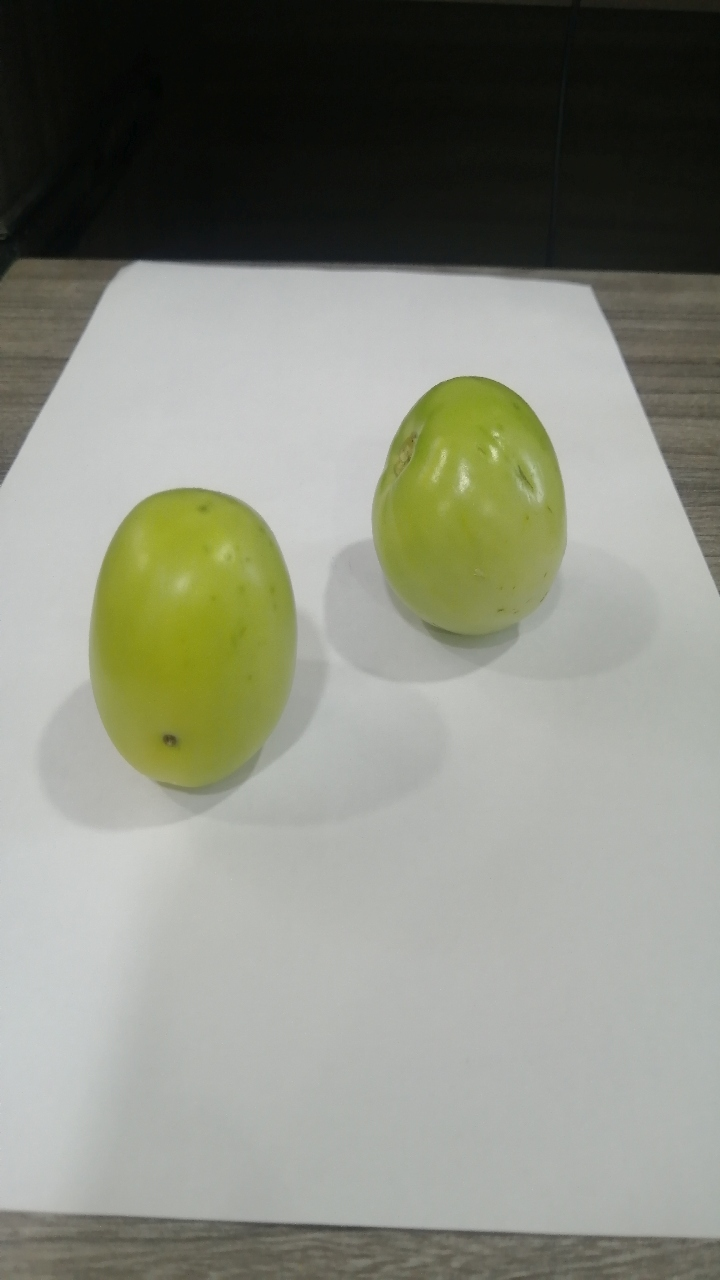tomateVerde: (58, 459, 329, 811), (352, 366, 591, 654)
